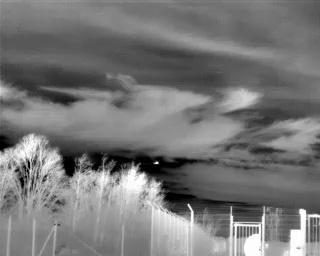HELICOPTER: (151, 158, 162, 168)
